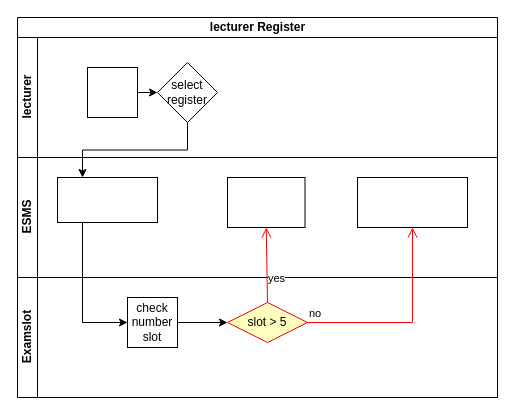
Image size: 515x415. Some labels were removed from this diagram. Each missing label, with the centre of its shape:
"+1 entry to the supervisor list" goes at [412,202].
"check authenticates Lecturer" goes at [107,199].
"Login" goes at [112,92].
"stop registering" goes at [265,202].
